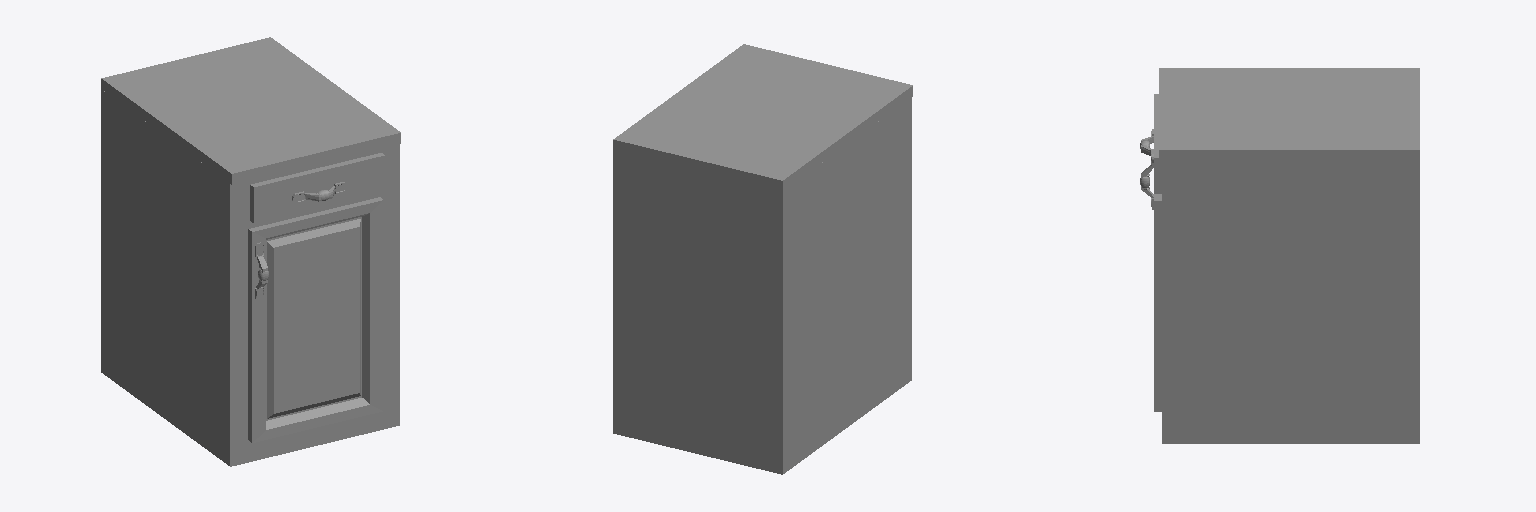
Rendered from 1DoorLowerCabinet.obj.
3 views of the same model, side by side, from view 1: azimuth 30°, elevation 25°; view 2: azimuth 150°, elevation 25°; view 3: azimuth 270°, elevation 25° (orthographic).
Visible parts, largest first — view 1: PolyMesh_4, PolyMesh_1_3.002, PolyMesh_6, Cube_3_3; view 2: PolyMesh_4, PolyMesh_6; view 3: PolyMesh_4, PolyMesh_6, PolyMesh_1_3.002, Cube_3_3.
Boxes of the visible parts, x1=… form: PolyMesh_4: x1=101, y1=89, x2=399, y2=466; PolyMesh_1_3.002: x1=248, y1=197, x2=383, y2=442; PolyMesh_6: x1=101, y1=37, x2=400, y2=184; Cube_3_3: x1=250, y1=153, x2=384, y2=223; PolyMesh_4: x1=613, y1=97, x2=911, y2=474; PolyMesh_6: x1=613, y1=44, x2=912, y2=191; PolyMesh_4: x1=1162, y1=161, x2=1419, y2=443; PolyMesh_6: x1=1159, y1=68, x2=1419, y2=160; PolyMesh_1_3.002: x1=1154, y1=194, x2=1161, y2=411; Cube_3_3: x1=1154, y1=94, x2=1161, y2=193.
Size of the model in its own units: 3.94 by 6.54 by 5.64.